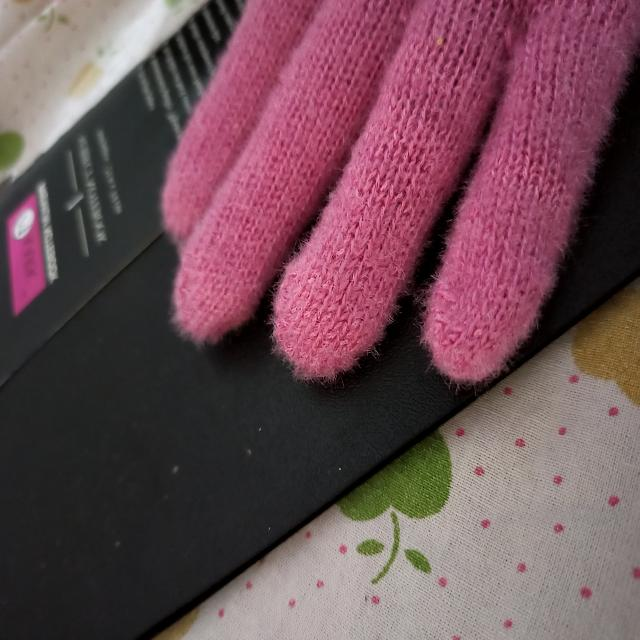glove: (156, 10, 640, 396)
